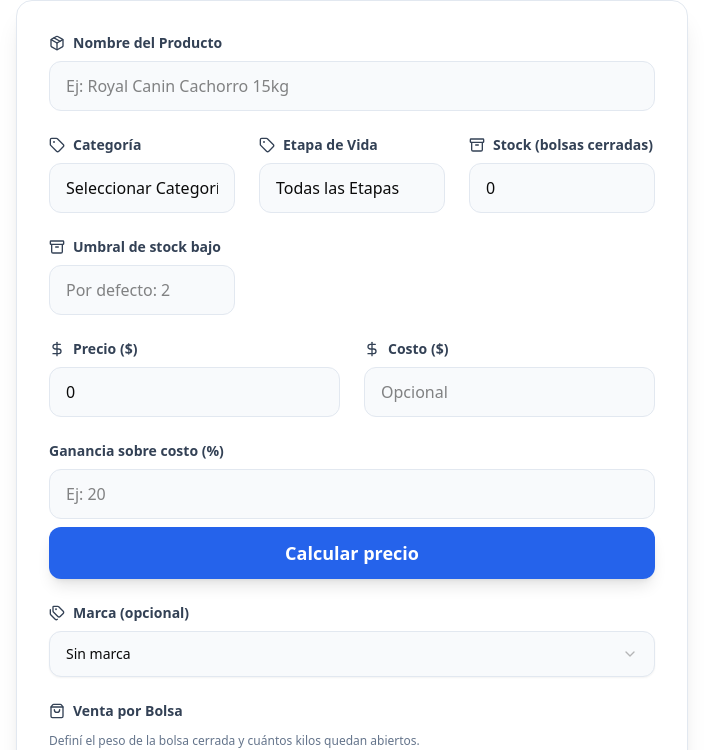
Test: ProductForm (la sección de bolsa/kilo depende de la categoría) › Otros: un producto NUEVO arranca con el interruptor apagado
This screenshot has width=705, height=750.
Select "Otros" in the dropdown below "Categoría" at [142, 188], box [49,163,235,213]
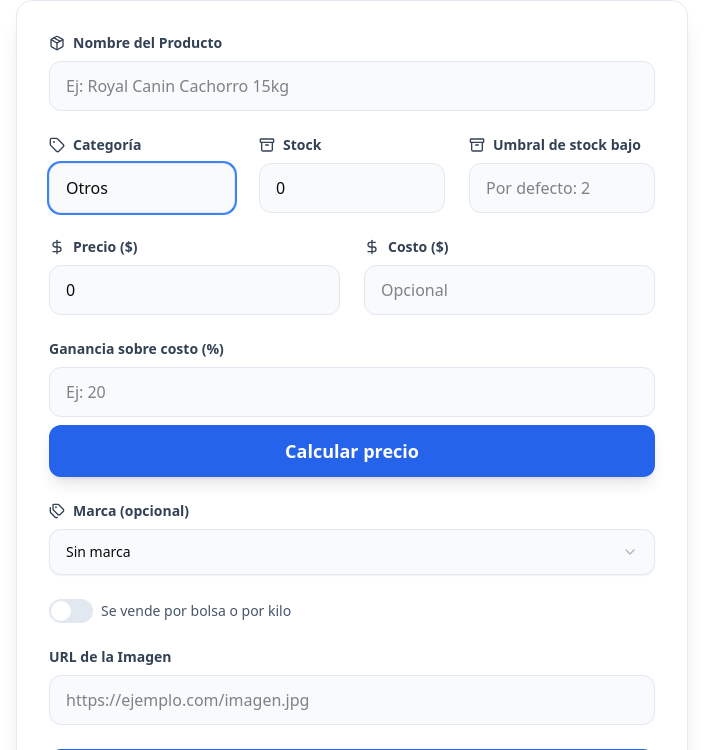
Expected: the checkbox labelled "Se vende por bolsa o por kilo" is not checked, [49,599,291,623]
Result: the text "Venta por Bolsa" is gone
Result: the text "Stock (bolsas cerradas)" is gone
